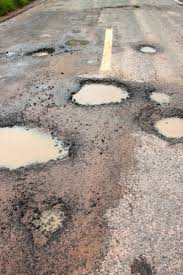Pothole: (1, 115, 79, 172), (136, 89, 183, 144), (63, 74, 133, 107), (24, 45, 57, 60)
